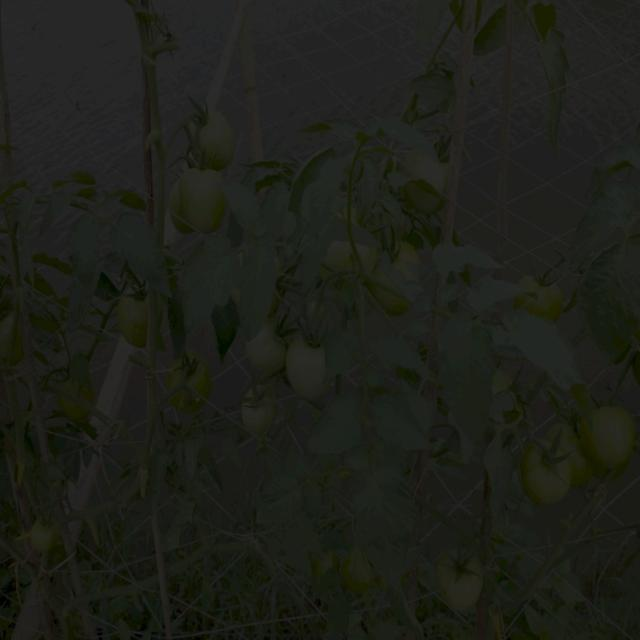tomato: (584, 404, 640, 469), (519, 438, 576, 500), (438, 543, 484, 617), (177, 174, 219, 232), (173, 358, 216, 406), (196, 116, 238, 165), (526, 277, 574, 319), (251, 326, 289, 379), (293, 336, 326, 397), (557, 421, 598, 470), (239, 390, 279, 438), (334, 249, 384, 280), (417, 152, 457, 188), (122, 287, 147, 344), (342, 548, 374, 588), (406, 188, 444, 221), (378, 249, 419, 276), (30, 521, 56, 555), (382, 284, 407, 317)
